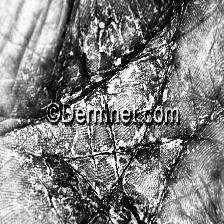Non-Cancerous Skin Condition: (38, 140, 191, 224), (44, 14, 171, 98)
